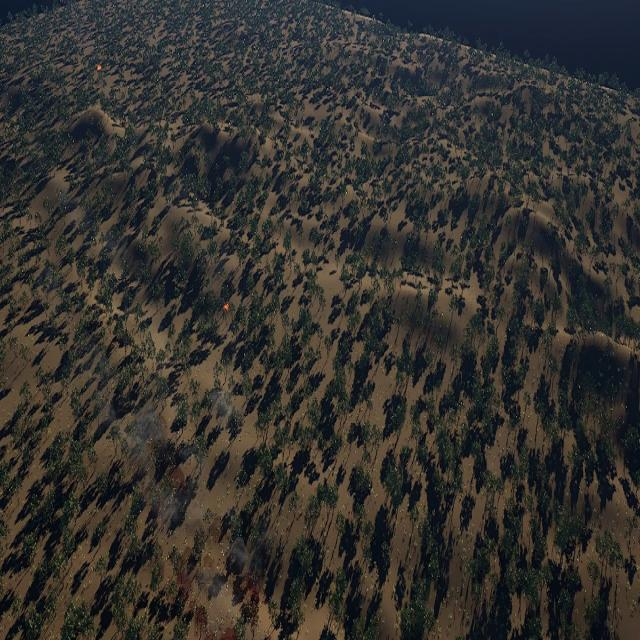fire: (222, 303, 230, 312), (96, 63, 102, 72)
smoke: (71, 327, 263, 640), (208, 388, 234, 424)
